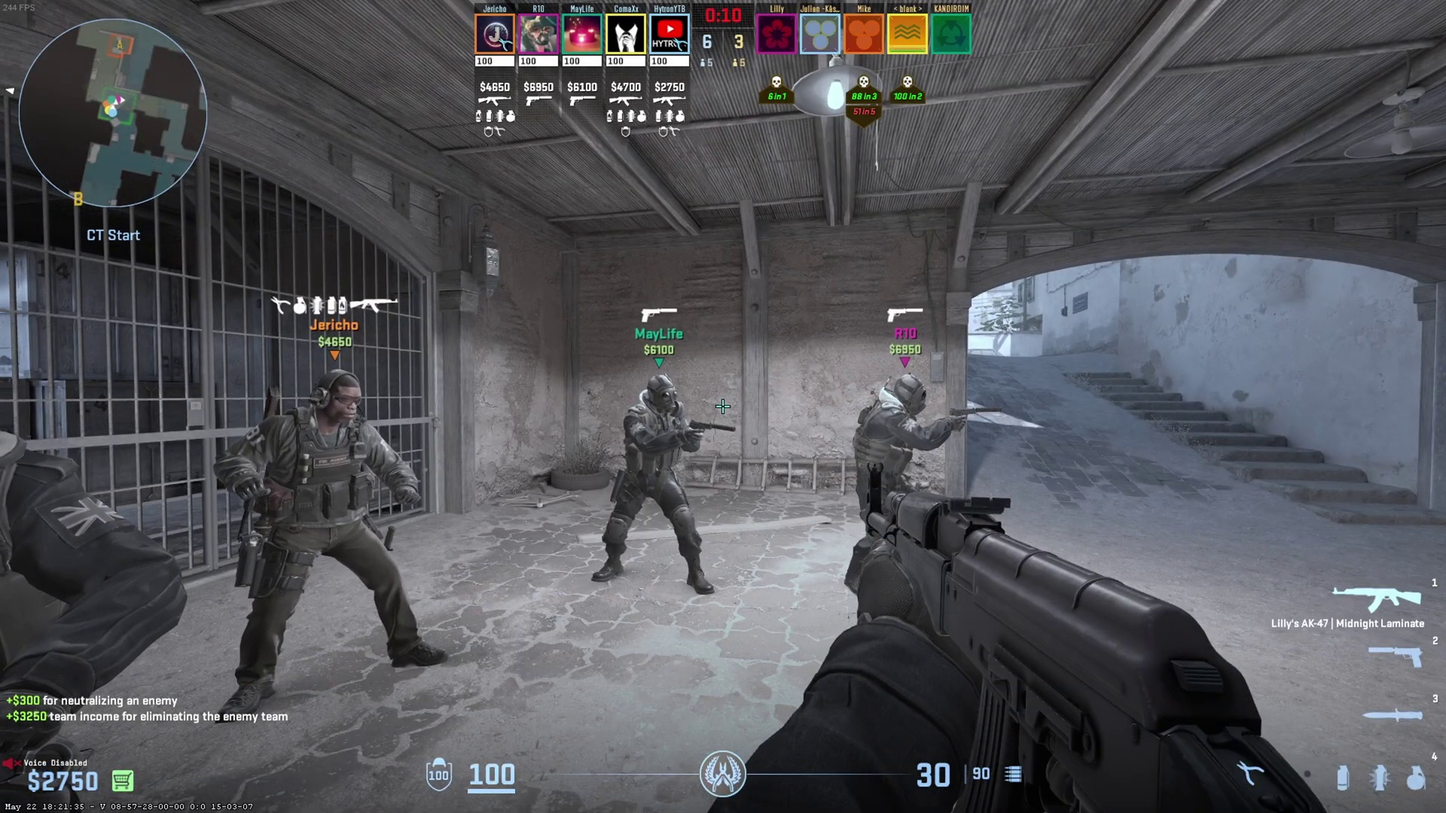CT: (232, 370, 446, 716), (0, 432, 161, 808), (595, 374, 715, 593), (857, 375, 933, 519)
